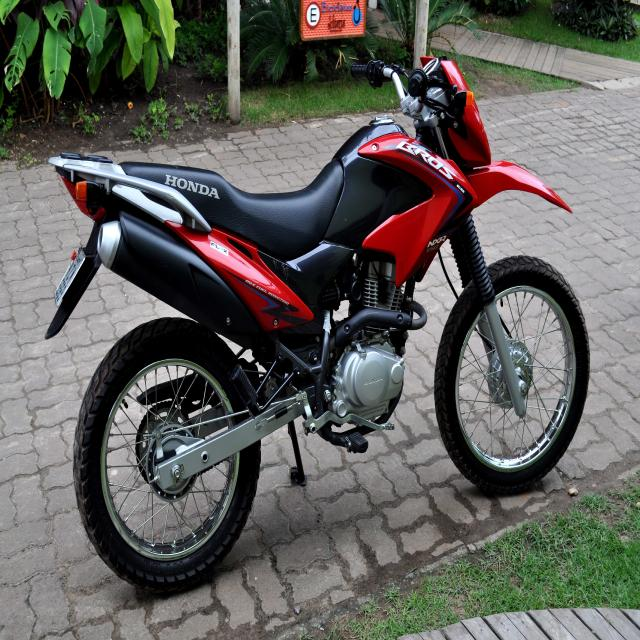Motorcycle: (44, 57, 590, 592)
